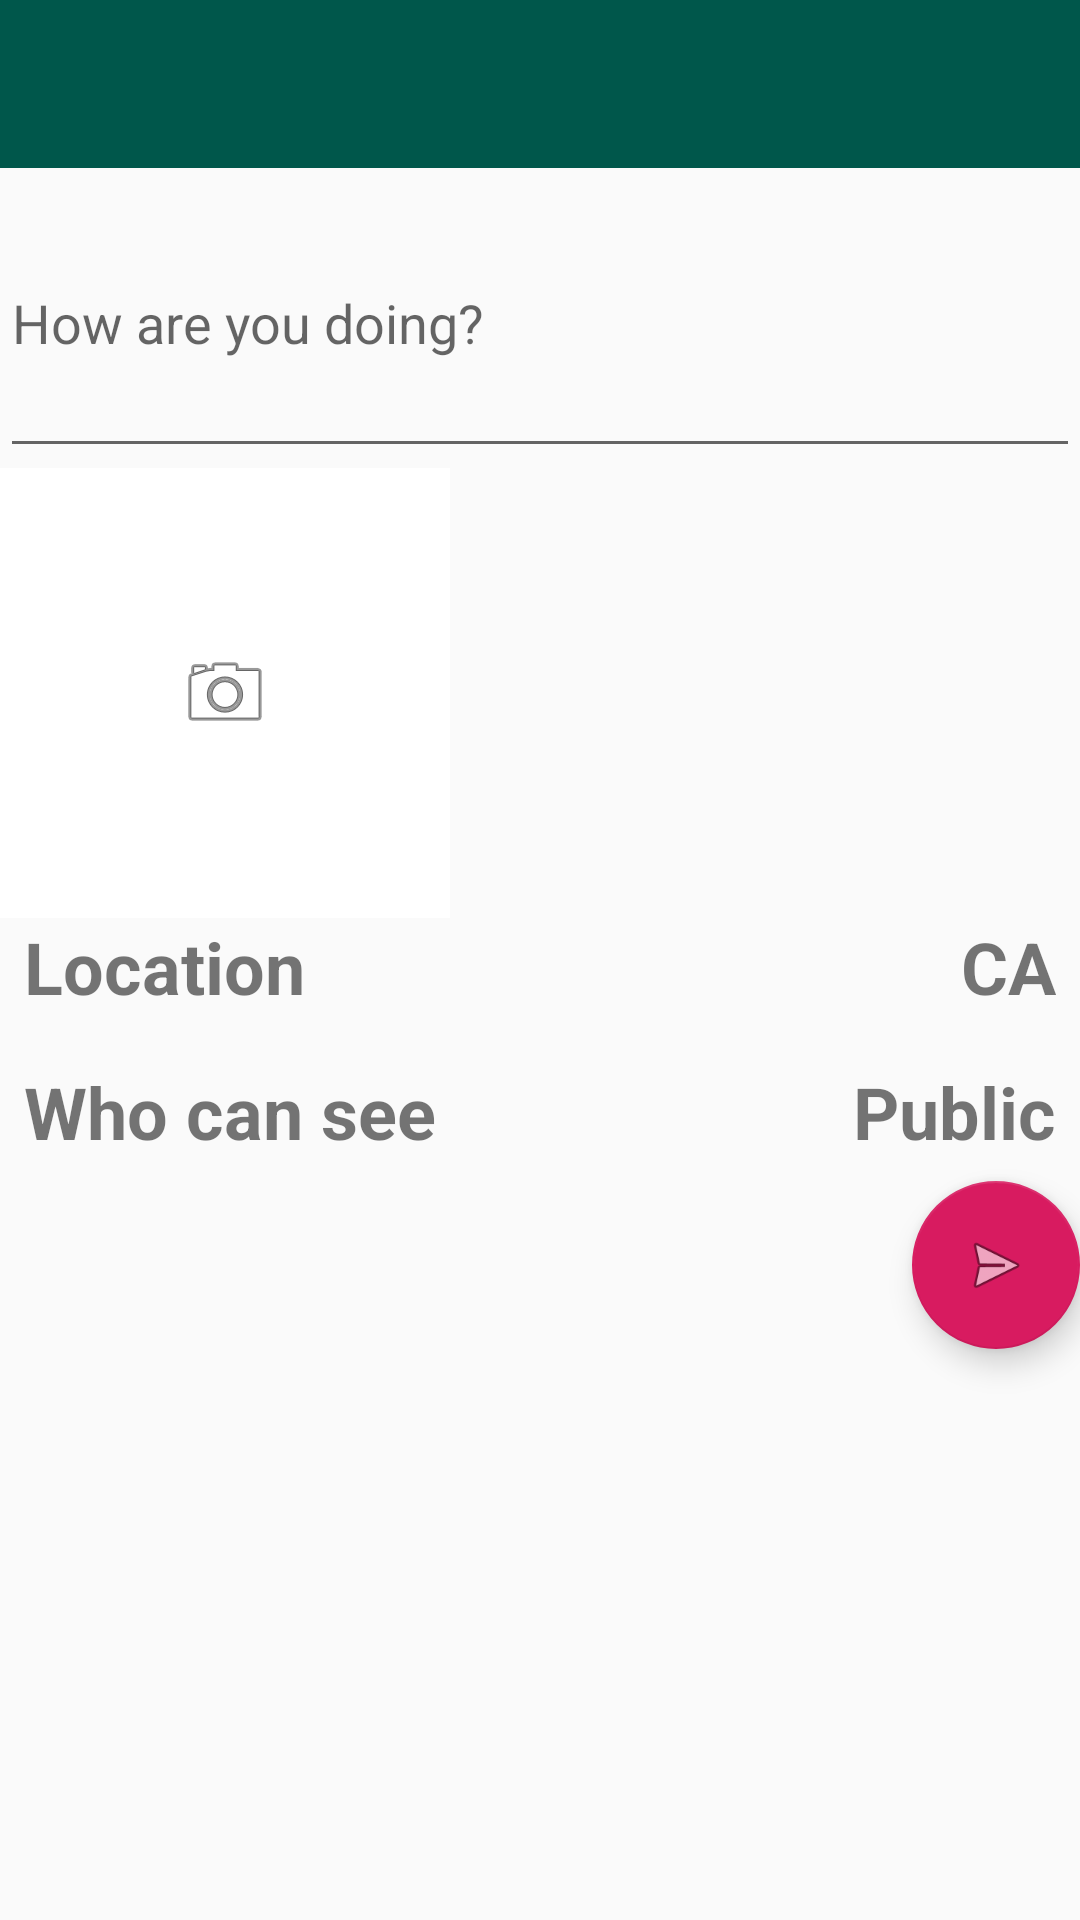

Icon click points for this 1080 x 1920 phone screenshot, format [x,y]:
camera: [225,691]
send: [996,1265]
